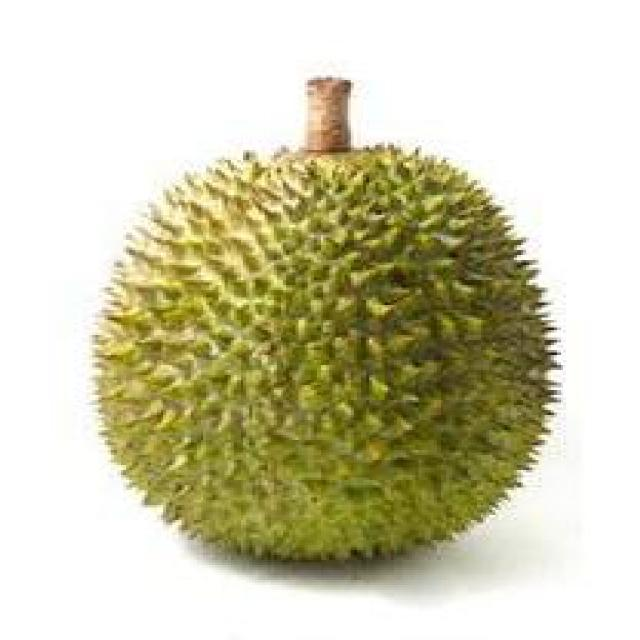fruit: (46, 260, 434, 615)
